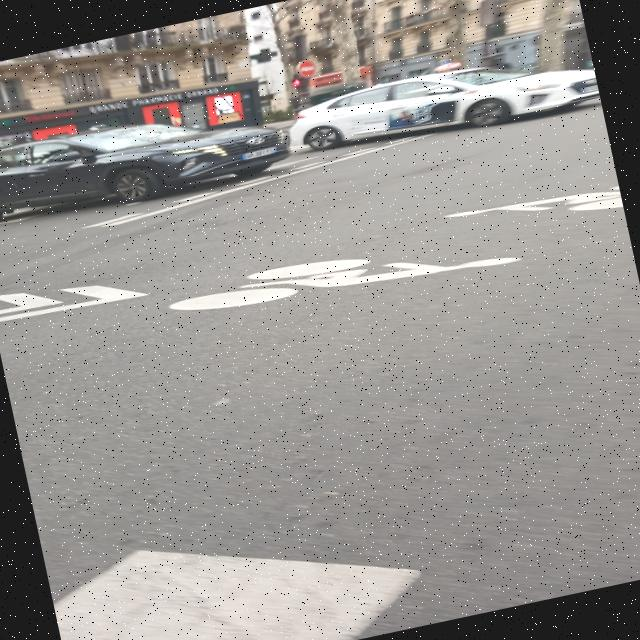Autre: (238, 140, 294, 163), (572, 80, 598, 96)
